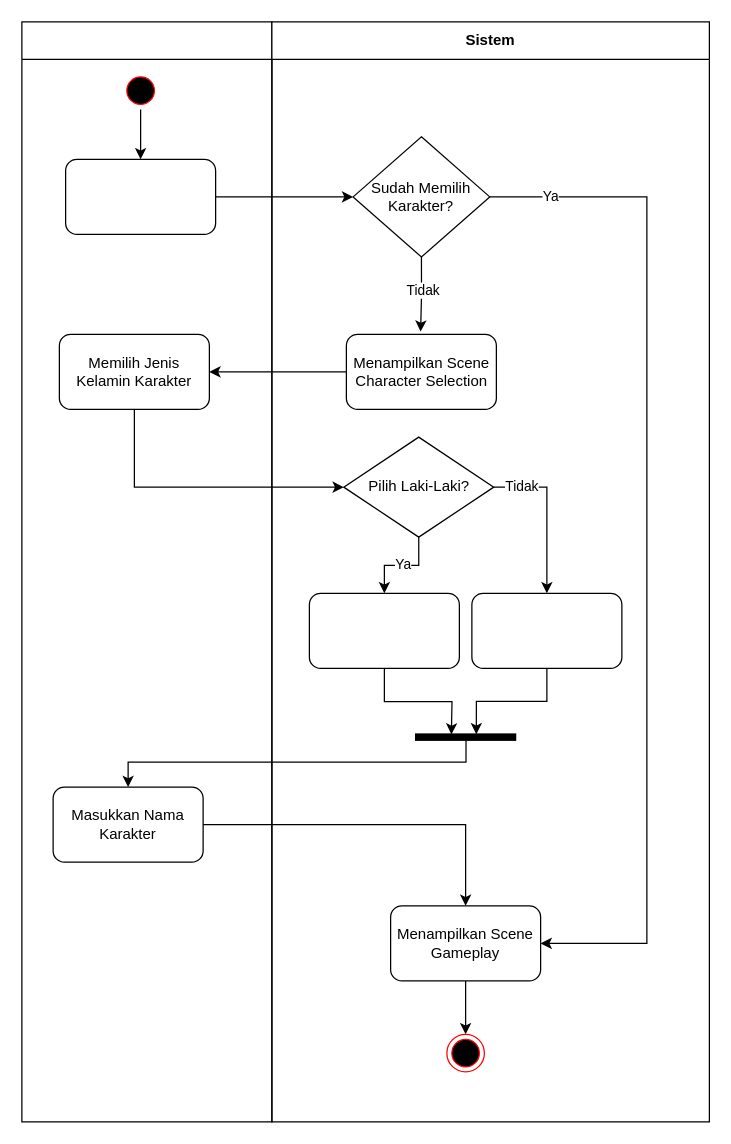
This 731x1144 diagram has some shape labels left out. The box of each missing label's shape, as (x1, y1, x2, y2) in pixels:
Karakter Laki-laki: (308, 592, 459, 668)
Karakter Perempuan: (471, 592, 622, 668)
Menekan Tombol Start Game: (64, 158, 216, 234)
Pengguna: (21, 21, 272, 1122)
